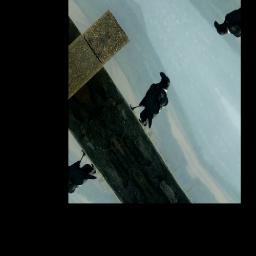Crow: (126, 68, 183, 132)
